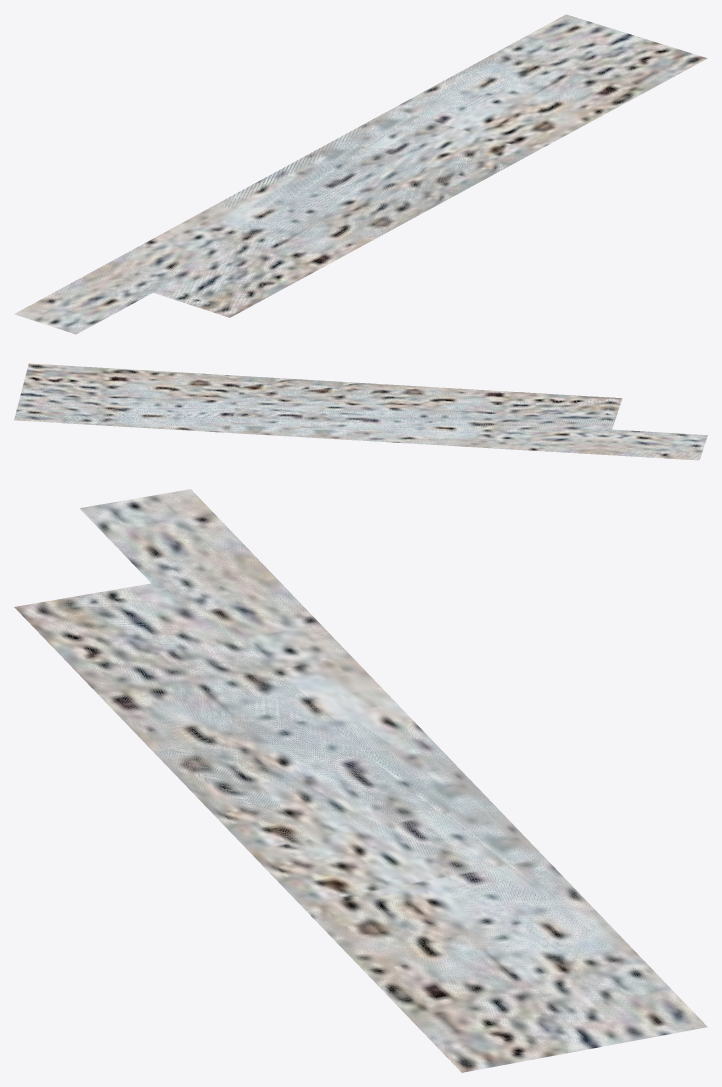
File: 西庸城堡658.dae
3 views of the same model, one above another, from view 1: azimuth 30°, elevation 25°; view 2: azimuth 150°, elevation 25°; view 3: azimuth 270°, elevation 25° (orthographic). The views are drawn at different scales.
Parts seen in each view (by area): view 1: SketchUp; view 2: SketchUp; view 3: SketchUp.
Boxes of the visible parts, box(x1,y1,x2,y2) form: SketchUp: box(14, 14, 707, 334); SketchUp: box(14, 363, 707, 460); SketchUp: box(14, 489, 707, 1072).
Size of the model in its own units: 275 by 138 by 0.
